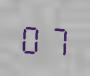seven: (44, 19, 68, 57)
zero: (19, 18, 43, 55)
